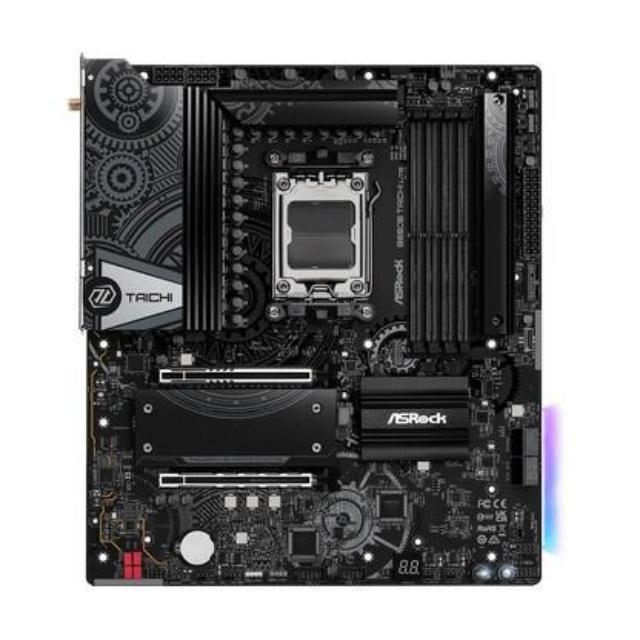Mainboard: (69, 50, 556, 592)
